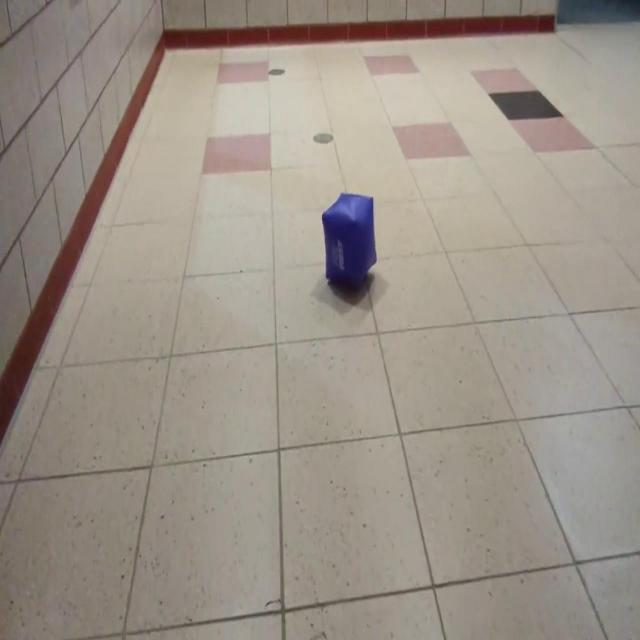frc_cube: (322, 191, 378, 292)
